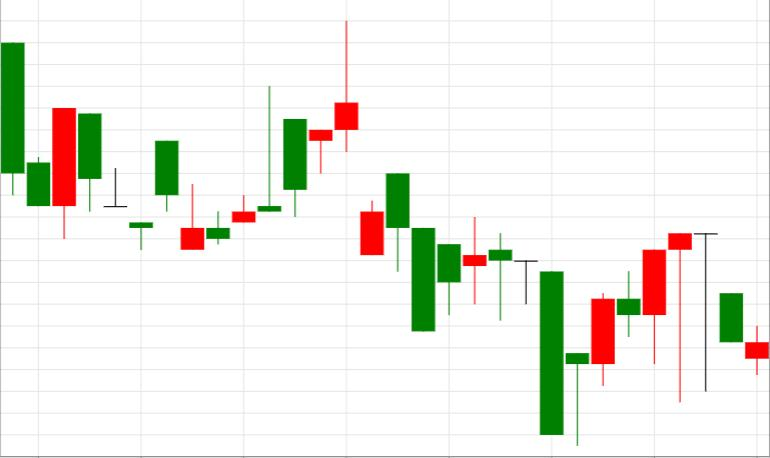shooting_star_fall: (181, 21, 358, 250)
